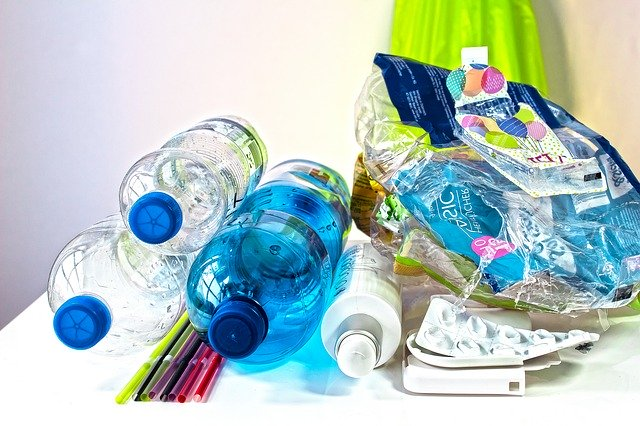plastic_bottle: (111, 109, 269, 253), (183, 226, 333, 373), (30, 244, 182, 357)
